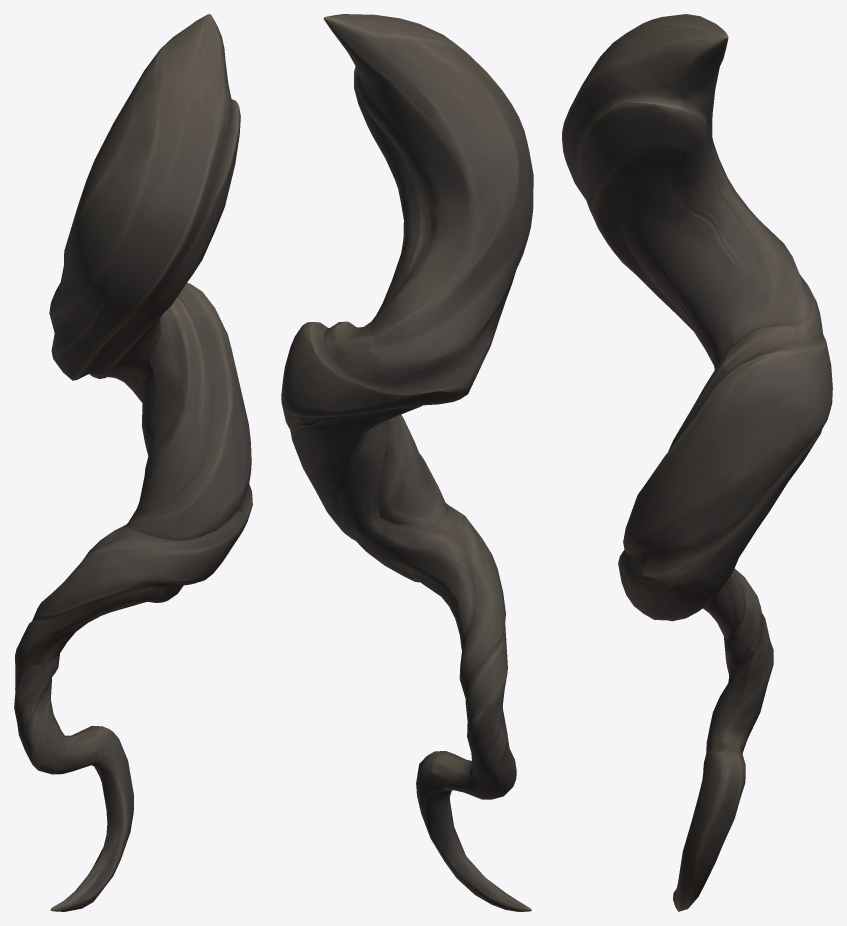
The picture shows the model from 3 angles, left to right: view 1: azimuth 30°, elevation 25°; view 2: azimuth 150°, elevation 25°; view 3: azimuth 270°, elevation 25°; orthographic projection. The views are drawn at different scales.
Visible parts, largest first — view 1: SM_KC_ROOT_01_A; view 2: SM_KC_ROOT_01_A; view 3: SM_KC_ROOT_01_A.
Boxes of the visible parts, <box> form: SM_KC_ROOT_01_A: <box>14,14,252,911</box>; SM_KC_ROOT_01_A: <box>281,14,533,911</box>; SM_KC_ROOT_01_A: <box>562,14,832,911</box>.
Size of the model in its own units: 2.03 by 7.68 by 1.97.
Materials: 1 (1 with a texture image).
